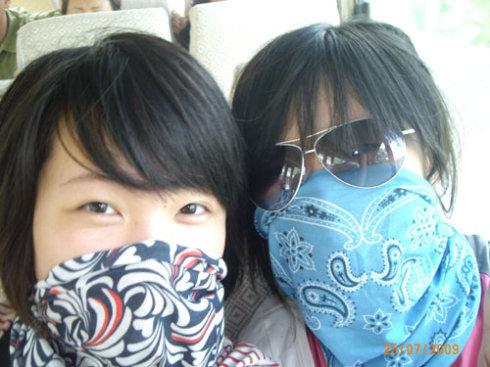OK: (254, 125, 436, 309), (47, 152, 226, 331)
